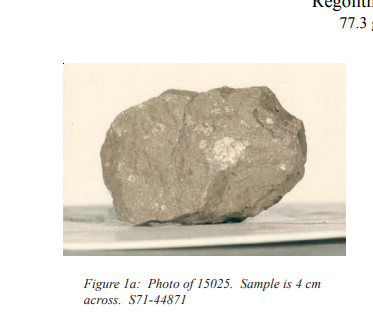Breccia: (11, 44, 275, 244), (13, 60, 243, 238), (85, 67, 326, 234)
